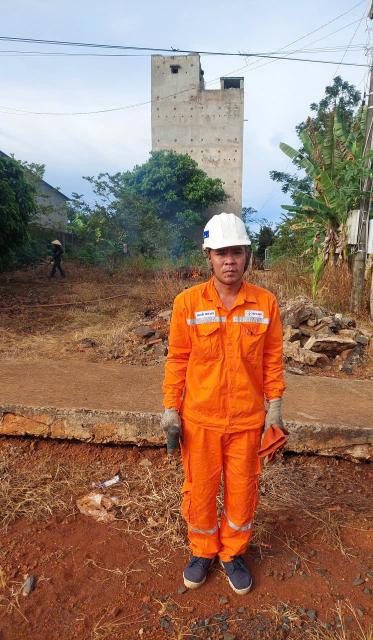gloves: (258, 397, 302, 444), (154, 408, 199, 443)
helmet: (203, 205, 263, 263)
shoes: (219, 548, 263, 594), (177, 548, 217, 596)
